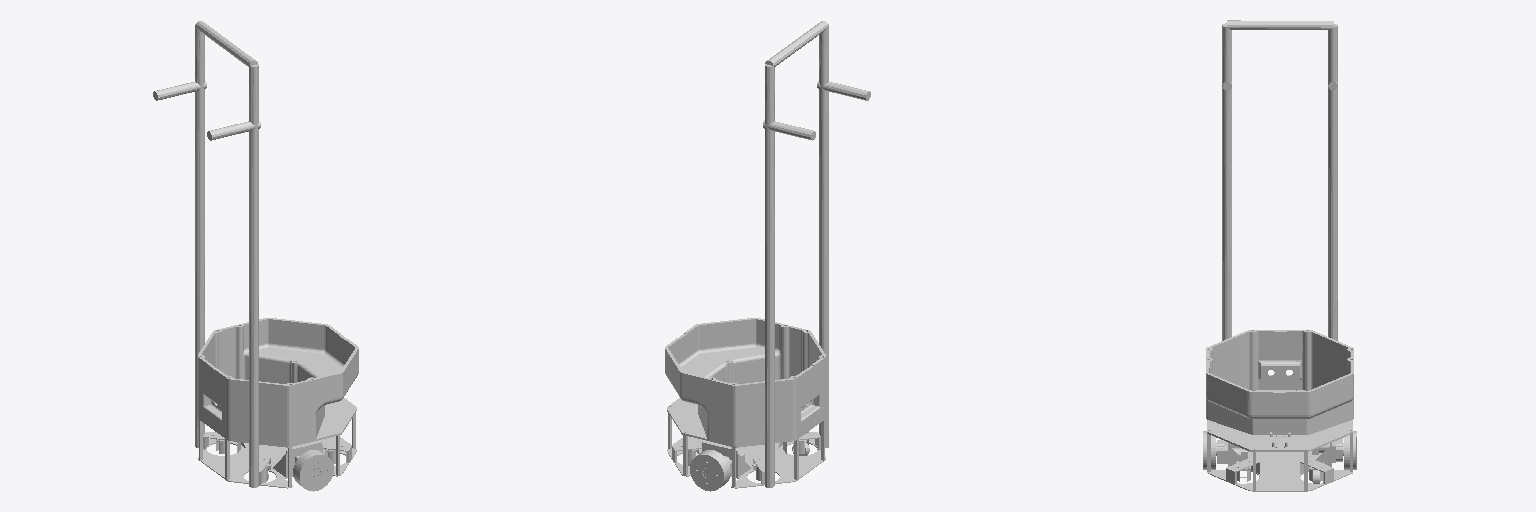
URDF robot description (Test32):
<?xml version="1.0" encoding="utf-8"?>
<!-- This URDF was automatically created by SolidWorks to URDF Exporter! Originally created by Stephen Brawner (brawner@gmail.com) 
     Commit Version: 1.6.0-4-g7f85cfe  Build Version: 1.6.7995.38578
     For more information, please see http://wiki.ros.org/sw_urdf_exporter -->
<robot
  name="Test32">
  <link
    name="base_footprint_link">
    <inertial>
      <origin
        xyz="-0.057023894336767 0.000320793320761792 0.394983107885768"
        rpy="0 0 0" />
      <mass
        value="7.97077901603284" />
      <inertia
        ixx="0.564703016591897"
        ixy="-0.000263158439860758"
        ixz="0.00421618336070412"
        iyy="0.506646564605232"
        iyz="2.7109853362724E-05"
        izz="0.138133376970923" />
    </inertial>
    <visual>
      <origin
        xyz="0 0 0"
        rpy="0 0 0" />
      <geometry>
        <mesh
          filename="package://my_robot_description/meshes/base_footprint_link.STL" />
      </geometry>
      <material
        name="">
        <color
          rgba="0.858823529411765 0.858823529411765 0.858823529411765 0.1" />
      </material>
    </visual>
    <collision>
      <origin
        xyz="0 0 0"
        rpy="0 0 0" />
      <geometry>
        <mesh
          filename="package://my_robot_description/meshes/base_footprint_link.STL" />
      </geometry>
    </collision>
  </link>
  <link
    name="MWR_Link">
    <inertial>
      <origin
        xyz="-3.61866692166757E-07 0.00169749189013724 -2.05963571531242E-07"
        rpy="0 0 0" />
      <mass
        value="0.466851252756426" />
      <inertia
        ixx="0.00044060625166746"
        ixy="-3.2458431634984E-09"
        ixz="9.82786682125028E-09"
        iyy="0.000814141386237763"
        iyz="-1.84743702542368E-09"
        izz="0.000440594578385447" />
    </inertial>
    <visual>
      <origin
        xyz="0 0 0"
        rpy="0 0 0" />
      <geometry>
        <mesh
          filename="package://my_robot_description/meshes/MWR_Link.STL" />
      </geometry>
      <material
        name="">
        <color
          rgba="0.858823529411765 0.858823529411765 0.858823529411765 0.1" />
      </material>
    </visual>
    <collision>
      <origin
        xyz="0 0 0"
        rpy="0 0 0" />
      <geometry>
        <mesh
          filename="package://my_robot_description/meshes/MWR_Link.STL" />
      </geometry>
    </collision>
  </link>
  <joint
    name="MWR_Link_J"
    type="continuous">
    <origin
      xyz="2.80251920257157E-05 -0.21677777864129 0.0599999999991945"
      rpy="0 0 -0.00340845658018366" />
    <parent
      link="base_footprint_link" />
    <child
      link="MWR_Link" />
    <axis
      xyz="0 -1 0" />
  </joint>
  <link
    name="MWL_Link">
    <inertial>
      <origin
        xyz="-1.24067423001861E-12 -3.4632211287855E-05 -7.88480392088786E-13"
        rpy="0 0 0" />
      <mass
        value="0.445537025884621" />
      <inertia
        ixx="0.00043646303054229"
        ixy="1.2699950616518E-18"
        ixz="-1.24198924934284E-08"
        iyy="0.00080980686348029"
        iyz="7.74774944680461E-19"
        izz="0.000436448278520281" />
    </inertial>
    <visual>
      <origin
        xyz="0 0 0"
        rpy="0 0 0" />
      <geometry>
        <mesh
          filename="package://my_robot_description/meshes/MWL_Link.STL" />
      </geometry>
      <material
        name="">
        <color
          rgba="0.858823529411765 0.858823529411765 0.858823529411765 0.1" />
      </material>
    </visual>
    <collision>
      <origin
        xyz="0 0 0"
        rpy="0 0 0" />
      <geometry>
        <mesh
          filename="package://my_robot_description/meshes/MWL_Link.STL" />
      </geometry>
    </collision>
  </link>
  <joint
    name="MWL_Link_J"
    type="continuous">
    <origin
      xyz="0.000411754667072883 0.21635750120644 0.0600000000008103"
      rpy="0 0 -0.00340845658018366" />
    <parent
      link="base_footprint_link" />
    <child
      link="MWL_Link" />
    <axis
      xyz="0 -1 0" />
  </joint>
  <link
    name="CFR_Link">
    <inertial>
      <origin
        xyz="0 -1.11022302462516E-16 0"
        rpy="0 0 0" />
      <mass
        value="0.0225801971976767" />
      <inertia
        ixx="4.27698207368044E-06"
        ixy="4.30587632545263E-38"
        ixz="-1.01562978102684E-38"
        iyy="7.87603463265499E-06"
        iyz="-1.19105784889192E-20"
        izz="4.27698207368044E-06" />
    </inertial>
    <visual>
      <origin
        xyz="0 0 0"
        rpy="0 0 0" />
      <geometry>
        <mesh
          filename="package://my_robot_description/meshes/CFR_Link.STL" />
      </geometry>
      <material
        name="">
        <color
          rgba="0.858823529411765 0.858823529411765 0.858823529411765 0.1" />
      </material>
    </visual>
    <collision>
      <origin
        xyz="0 0 0"
        rpy="0 0 0" />
      <geometry>
        <mesh
          filename="package://my_robot_description/meshes/CFR_Link.STL" />
      </geometry>
    </collision>
  </link>
  <joint
    name="CFR_Link_J"
    type="continuous">
    <origin
      xyz="0.12461582327956 -0.112925402759215 0.0265000000000104"
      rpy="0 0 -0.00340845658018366" />
    <parent
      link="base_footprint_link" />
    <child
      link="CFR_Link" />
    <axis
      xyz="0 1 0" />
  </joint>
  <link
    name="CBR_Link">
    <inertial>
      <origin
        xyz="1.11022302462516E-16 -5.55111512312578E-17 0"
        rpy="0 0 0" />
      <mass
        value="0.0225801971976767" />
      <inertia
        ixx="4.27698207368044E-06"
        ixy="4.30587632545263E-38"
        ixz="-1.01562978102688E-38"
        iyy="7.87603463265499E-06"
        iyz="-1.18046993705124E-20"
        izz="4.27698207368044E-06" />
    </inertial>
    <visual>
      <origin
        xyz="0 0 0"
        rpy="0 0 0" />
      <geometry>
        <mesh
          filename="package://my_robot_description/meshes/CBR_Link.STL" />
      </geometry>
      <material
        name="">
        <color
          rgba="0.858823529411765 0.858823529411765 0.858823529411765 0.1" />
      </material>
    </visual>
    <collision>
      <origin
        xyz="0 0 0"
        rpy="0 0 0" />
      <geometry>
        <mesh
          filename="package://my_robot_description/meshes/CBR_Link.STL" />
      </geometry>
    </collision>
  </link>
  <joint
    name="CBR_Link_J"
    type="continuous">
    <origin
      xyz="-0.125382724524813 -0.112073290264085 0.0265000000000108"
      rpy="0 0 -0.00340845658018366" />
    <parent
      link="base_footprint_link" />
    <child
      link="CBR_Link" />
    <axis
      xyz="0 1 0" />
  </joint>
  <link
    name="CFL_Link">
    <inertial>
      <origin
        xyz="1.11022302462516E-16 -1.11022302462516E-16 -4.44089209850063E-16"
        rpy="0 0 0" />
      <mass
        value="0.0225801971976767" />
      <inertia
        ixx="4.27698207368044E-06"
        ixy="4.30587632545263E-38"
        ixz="-1.01562978102684E-38"
        iyy="7.87603463265499E-06"
        iyz="-1.19105784889192E-20"
        izz="4.27698207368045E-06" />
    </inertial>
    <visual>
      <origin
        xyz="0 0 0"
        rpy="0 0 0" />
      <geometry>
        <mesh
          filename="package://my_robot_description/meshes/CFL_Link.STL" />
      </geometry>
      <material
        name="">
        <color
          rgba="0.858823529411765 0.858823529411765 0.858823529411765 0.1" />
      </material>
    </visual>
    <collision>
      <origin
        xyz="0 0 0"
        rpy="0 0 0" />
      <geometry>
        <mesh
          filename="package://my_robot_description/meshes/CFL_Link.STL" />
      </geometry>
    </collision>
  </link>
  <joint
    name="CFL_Link_J"
    type="continuous">
    <origin
      xyz="0.125382724525178 0.112073290264721 0.0265000000000095"
      rpy="0 0 -0.00340845658018366" />
    <parent
      link="base_footprint_link" />
    <child
      link="CFL_Link" />
    <axis
      xyz="0 -1 0" />
  </joint>
  <link
    name="CBL_Link">
    <inertial>
      <origin
        xyz="2.22044604925031E-16 -1.11022302462516E-16 2.22044604925031E-16"
        rpy="0 0 0" />
      <mass
        value="0.0225801971976767" />
      <inertia
        ixx="4.27698207368044E-06"
        ixy="4.30587632545263E-38"
        ixz="-1.01562978102684E-38"
        iyy="7.87603463265499E-06"
        iyz="-1.19105784889192E-20"
        izz="4.27698207368045E-06" />
    </inertial>
    <visual>
      <origin
        xyz="0 0 0"
        rpy="0 0 0" />
      <geometry>
        <mesh
          filename="package://my_robot_description/meshes/CBL_Link.STL" />
      </geometry>
      <material
        name="">
        <color
          rgba="0.858823529411765 0.858823529411765 0.858823529411765 0.1" />
      </material>
    </visual>
    <collision>
      <origin
        xyz="0 0 0"
        rpy="0 0 0" />
      <geometry>
        <mesh
          filename="package://my_robot_description/meshes/CBL_Link.STL" />
      </geometry>
    </collision>
  </link>
  <joint
    name="CBL_Link_J"
    type="continuous">
    <origin
      xyz="-0.124615823279196 0.112925402759852 0.0265000000000097"
      rpy="0 0 -0.00340845658018366" />
    <parent
      link="base_footprint_link" />
    <child
      link="CBL_Link" />
    <axis
      xyz="0 -1 0" />
  </joint>
  <link
    name="Lidar_Link">
    <inertial>
      <origin
        xyz="0.0120605325163315 -0.000533080554789345 -0.0190152625446196"
        rpy="0 0 0" />
      <mass
        value="0.0730815504750763" />
      <inertia
        ixx="1.95791676154068E-05"
        ixy="-1.04522238629402E-07"
        ixz="-4.28234102500603E-07"
        iyy="2.4125809262463E-05"
        iyz="9.34336092984886E-09"
        izz="4.14174355505559E-05" />
    </inertial>
    <visual>
      <origin
        xyz="0 0 0"
        rpy="0 0 0" />
      <geometry>
        <mesh
          filename="package://my_robot_description/meshes/Lidar_Link.STL" />
      </geometry>
      <material
        name="">
        <color
          rgba="0.752941176470588 0.752941176470588 0.752941176470588 1" />
      </material>
    </visual>
    <collision>
      <origin
        xyz="0 0 0"
        rpy="0 0 0" />
      <geometry>
        <mesh
          filename="package://my_robot_description/meshes/Lidar_Link.STL" />
      </geometry>
    </collision>
  </link>
  <joint
    name="Lidar_Link_J"
    type="fixed">
    <origin
      xyz="0.156005196504832 0.000235166703923095 0.22274999955924"
      rpy="0 0 -0.00340845658018366" />
    <parent
      link="base_footprint_link" />
    <child
      link="Lidar_Link" />
    <axis
      xyz="0 0 0" />
  </joint>
  <link
    name="MPU_Link">
    <inertial>
      <origin
        xyz="0.000548666975906498 6.86596336055834E-05 -0.00212070510127393"
        rpy="0 0 0" />
      <mass
        value="0.000999898118986847" />
      <inertia
        ixx="2.50456299192788E-08"
        ixy="-2.83087758630434E-14"
        ixz="-2.69530310584251E-14"
        iyy="1.2450495325116E-08"
        iyz="-1.16343900762546E-14"
        izz="3.063763531159E-08" />
    </inertial>
    <visual>
      <origin
        xyz="0 0 0"
        rpy="0 0 0" />
      <geometry>
        <mesh
          filename="package://my_robot_description/meshes/MPU_Link.STL" />
      </geometry>
      <material
        name="">
        <color
          rgba="0.752941176470588 0.752941176470588 0.752941176470588 1" />
      </material>
    </visual>
    <collision>
      <origin
        xyz="0 0 0"
        rpy="0 0 0" />
      <geometry>
        <mesh
          filename="package://my_robot_description/meshes/MPU_Link.STL" />
      </geometry>
    </collision>
  </link>
  <joint
    name="MPU_Link_J"
    type="fixed">
    <origin
      xyz="0.069783287639144 -0.00100475995919391 0.179300000011291"
      rpy="0 0 -0.00340845658018366" />
    <parent
      link="base_footprint_link" />
    <child
      link="MPU_Link" />
    <axis
      xyz="0 0 0" />
  </joint>
</robot>

--- Render facts (derived) ---
The picture shows the robot from 3 angles, left to right: view 1: azimuth 30°, elevation 25°; view 2: azimuth 150°, elevation 25°; view 3: azimuth 270°, elevation 25°; orthographic projection.
Model Test32 with 9 links and 8 joints (6 continuous, 2 fixed), rooted at base_footprint_link, posed all joints at 0.
Visible links, largest first — view 1: base_footprint_link, MWR_Link; view 2: base_footprint_link, MWL_Link; view 3: base_footprint_link.
Boxes of the visible links, x1,y1,x2,y2 form: base_footprint_link: (153, 21, 358, 488); MWR_Link: (293, 450, 333, 491); base_footprint_link: (665, 21, 870, 488); MWL_Link: (690, 450, 730, 491); base_footprint_link: (1206, 20, 1353, 491).
Bounding box of the posed robot: 0.5612 × 0.4735 × 1.44 m (x, y, z).
Meshes: 9 distinct files referenced, 6 mesh visuals loaded (6 binary STL); not drawn: 3 (reference not matched to a file when rendering).
